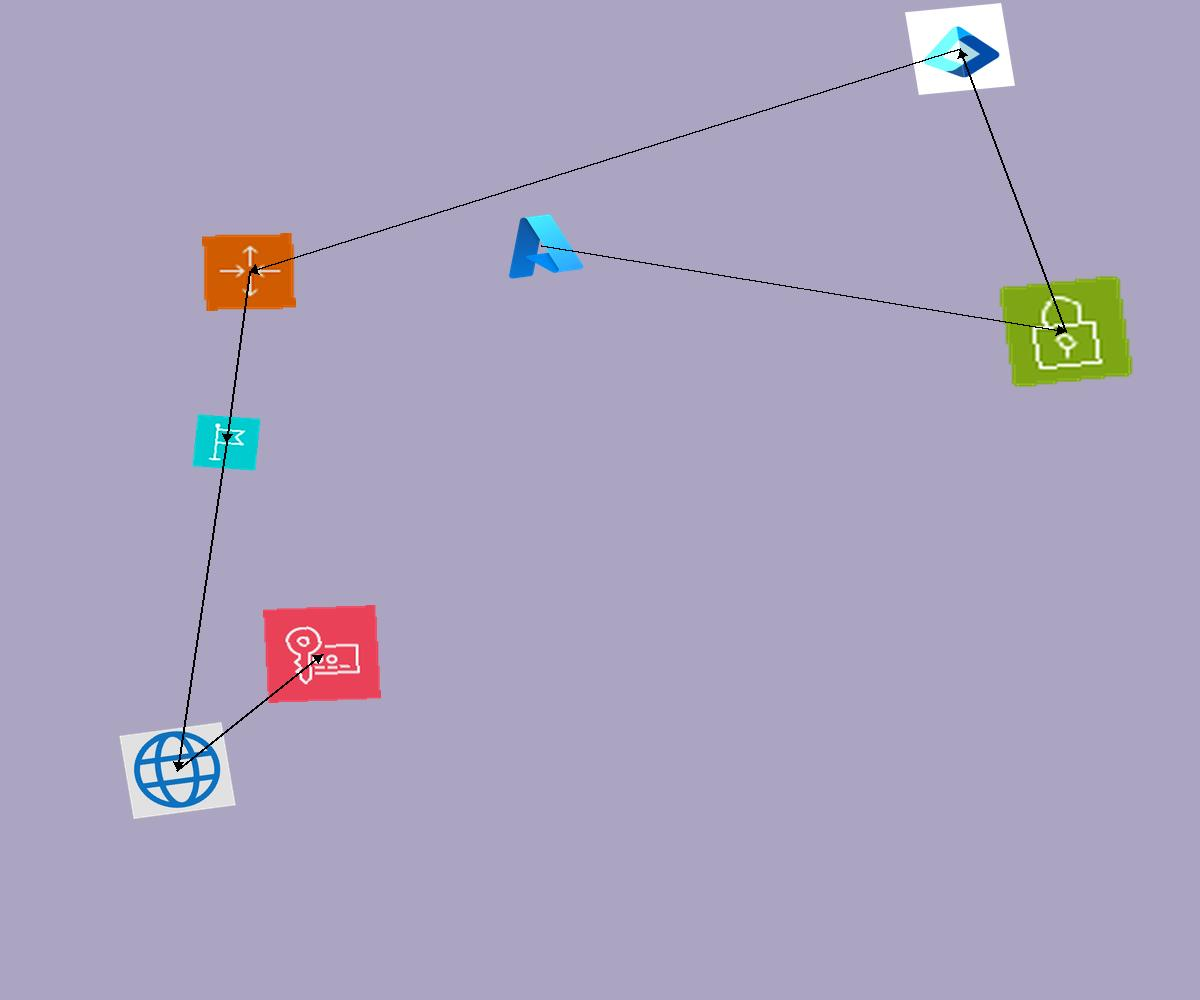AWS-Key-Management-Service: (263, 605, 381, 703)
AWS-Public-subnet: (997, 274, 1135, 389)
AWS-Region: (192, 414, 261, 471)
AWS-Scaling-group: (202, 233, 296, 311)
Azure_http: (119, 722, 236, 819)
Azure_microsoft_entra: (905, 3, 1015, 95)
Azure_services: (494, 206, 588, 284)
